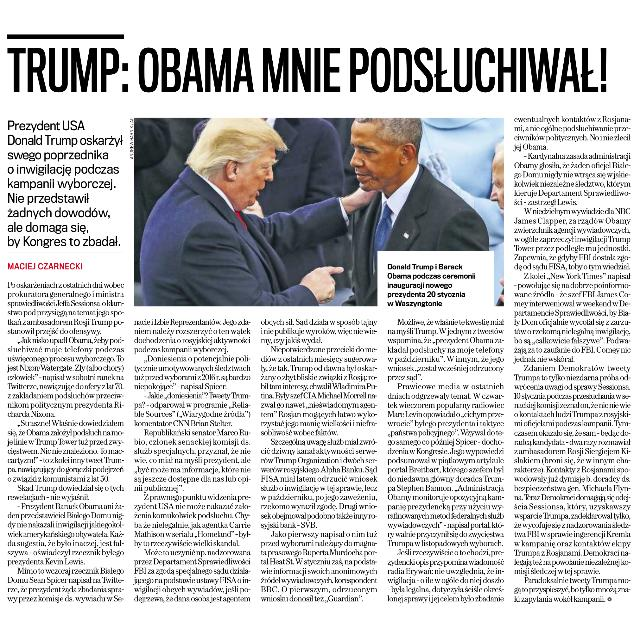author: (3, 260, 86, 274)
body: (512, 113, 636, 607), (2, 280, 130, 606), (384, 316, 508, 608), (132, 316, 256, 606), (260, 316, 380, 608)
caption: (384, 256, 481, 310)
image: (130, 113, 508, 311)
lead: (3, 118, 126, 250)
title: (4, 42, 620, 98)
